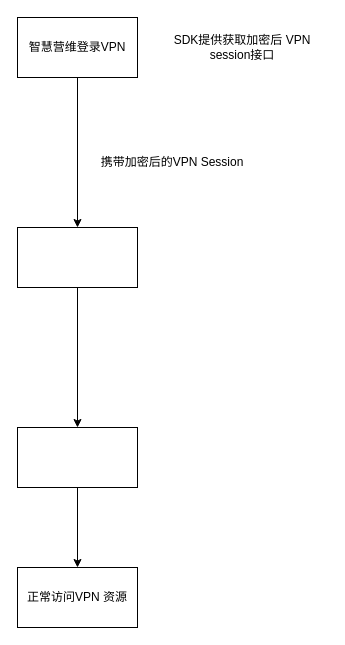
Some shapes in this 345 by 645 pixel diagram are drawn without their labels. Here are the shapes that lost their labels. From the top down, the centre of each, then its label:
[77,257]: 跳转其他APP
[77,457]: 其他APP进行VPN session登录
